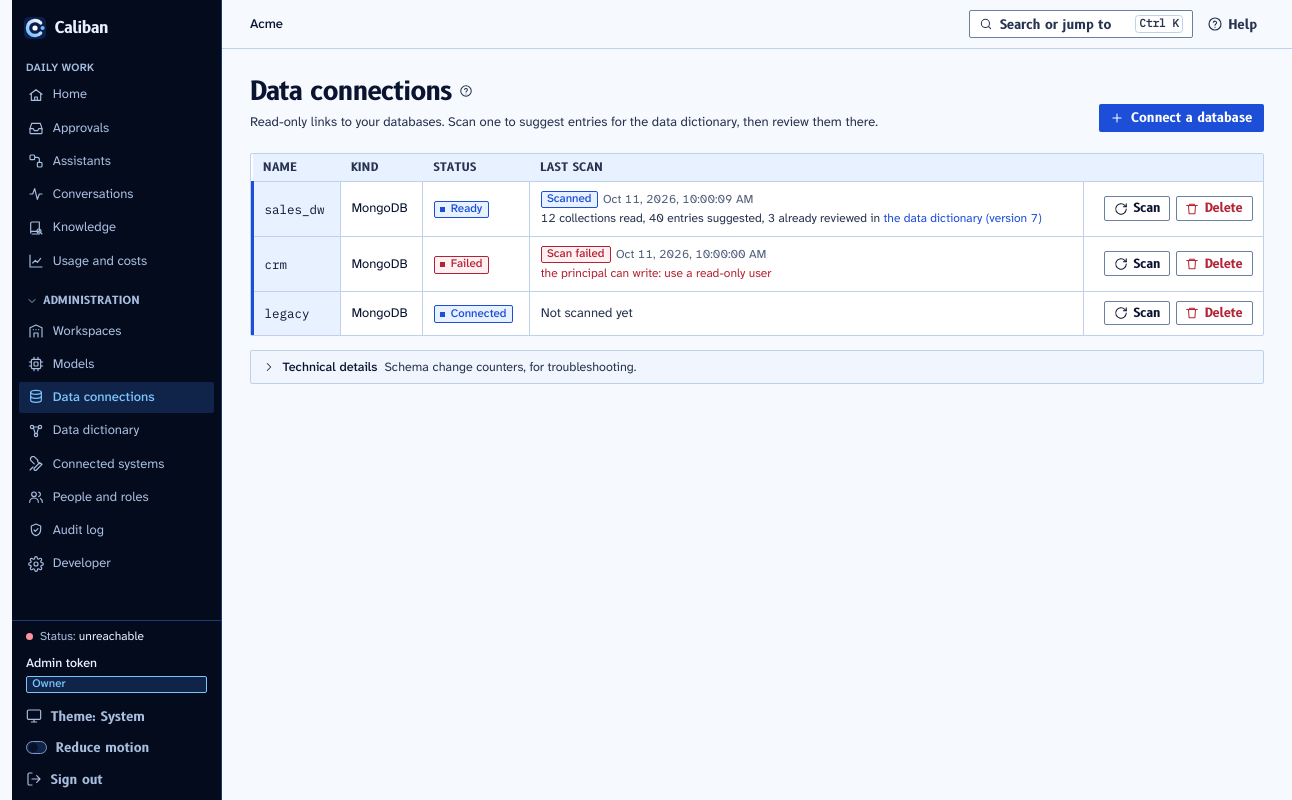
Test case: DatasourcesPage › shows each datasource's newest introspection job, and starts one
The width and height of the screenshot is (1292, 800).
Expected: the row that starts with "sales_dw" shows "12 collections read, 40 entries suggested, 3 already reviewed in the data dictionary (version 7)", [252,181,1263,236]
Expected: the text "Ready" is shown, [434,201,489,218]
Step 1. Click the button with aria-label "Scan legacy" → (1137, 313), box [1104,301,1170,325]
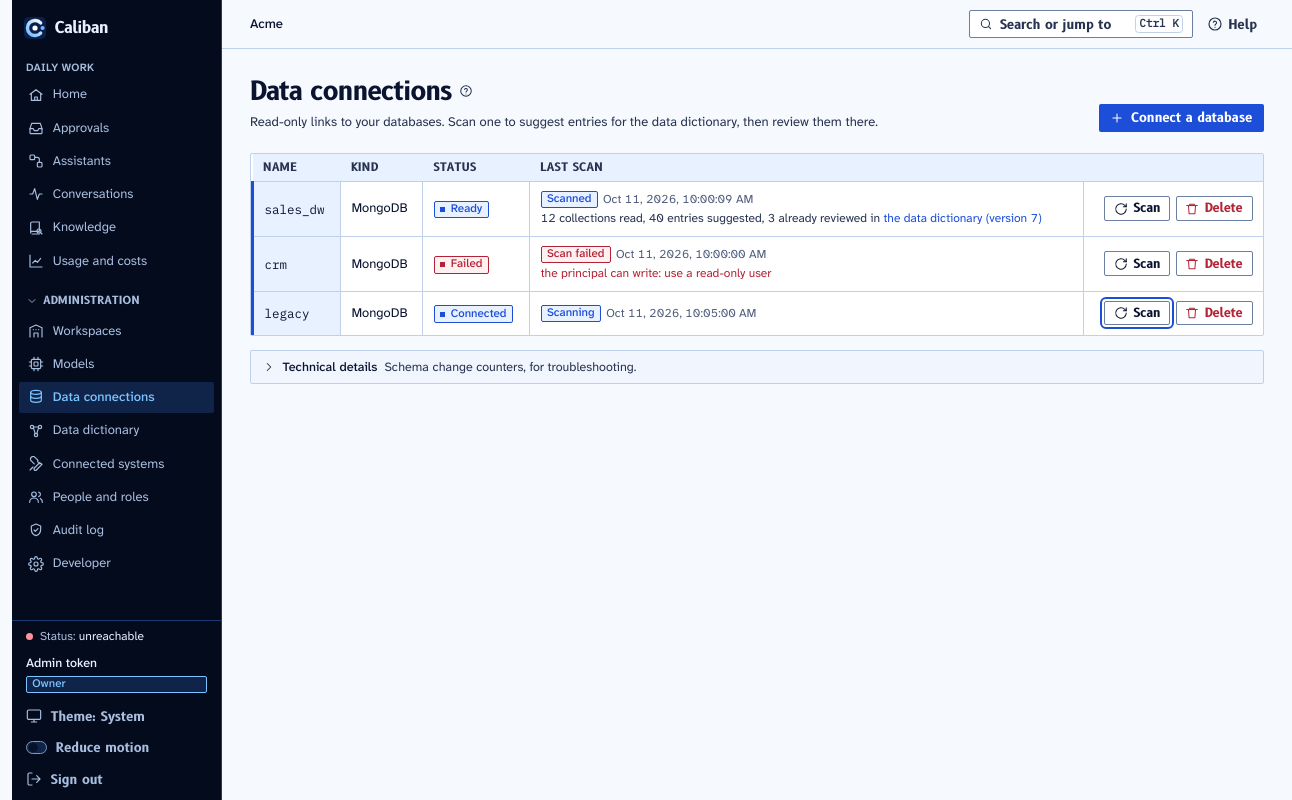
Expected: the text "Scanning" is shown, [541,305,601,322]
